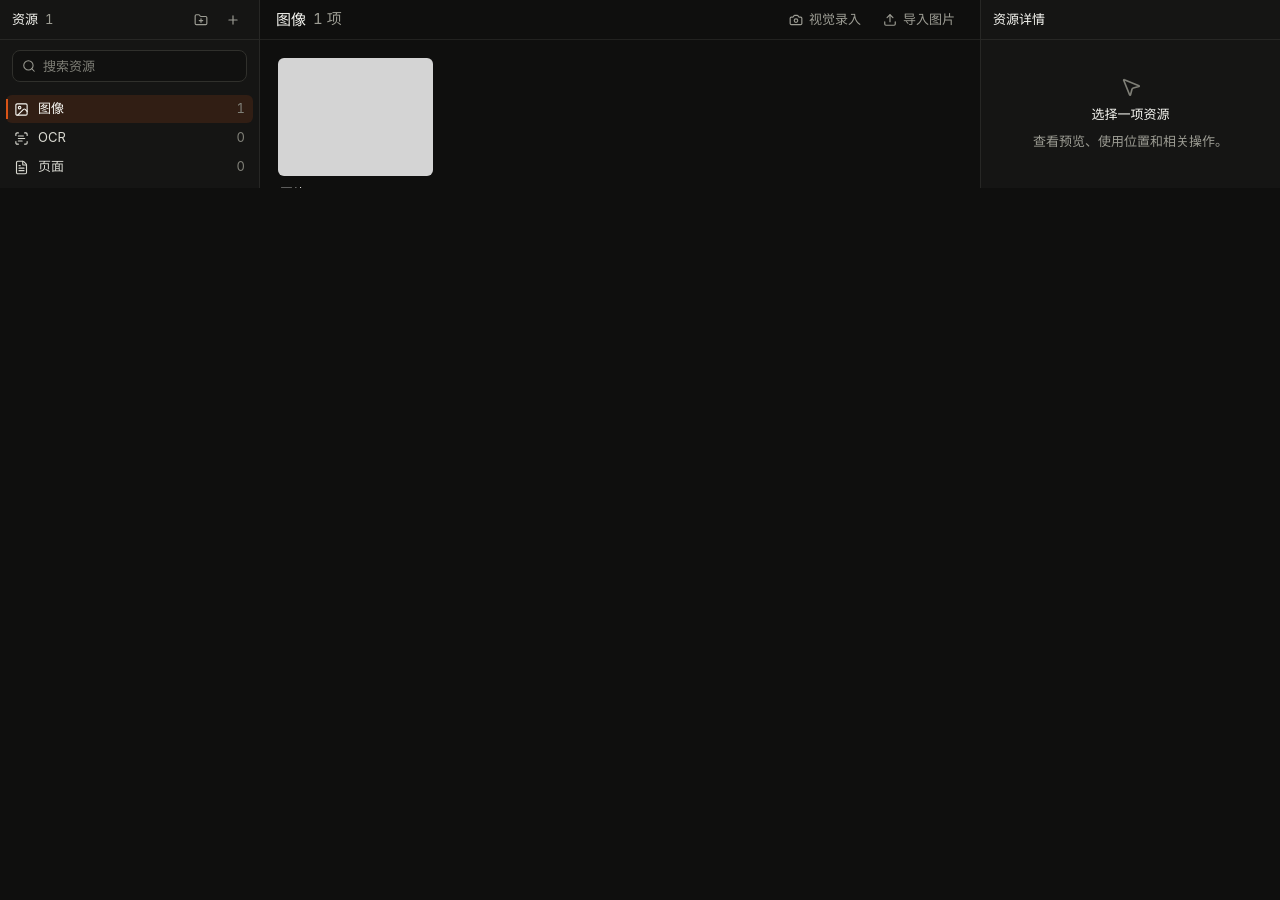
Scenario: VNextResourceWorkspace large library › 存在 ProgramDocument 引用时阻止删除且不显示伪造的强制清理
expect the button with class "asset-card" is shown: met, box [272,52,438,188]
Click the button with class "asset-card" at (355, 129), box [272,52,438,206]
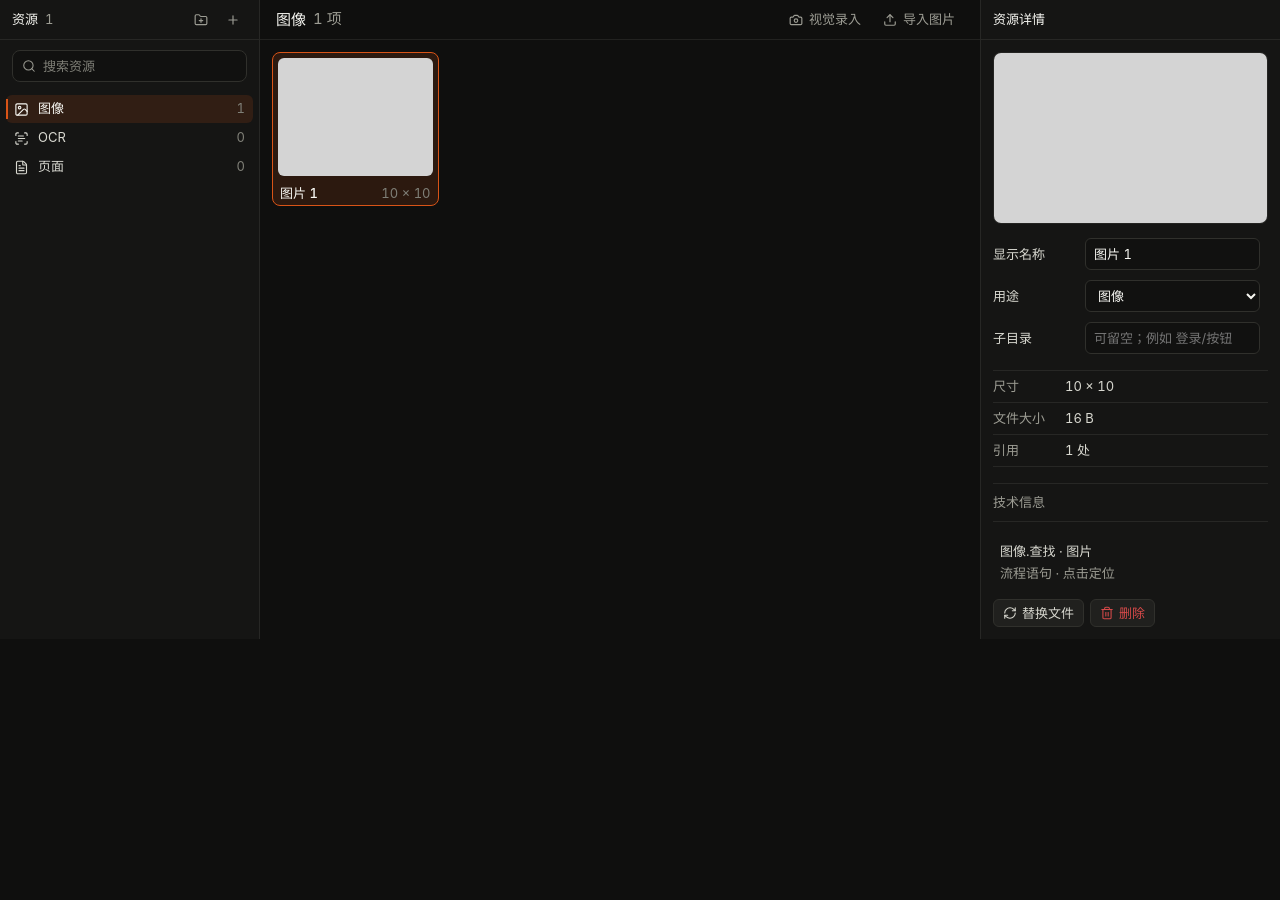
expect the element with class "reference-list" shows "图像.查找 · 图片": met, box [993,536,1268,589]
Click the button with class "danger" at (1122, 613), box [1090,599,1155,627]
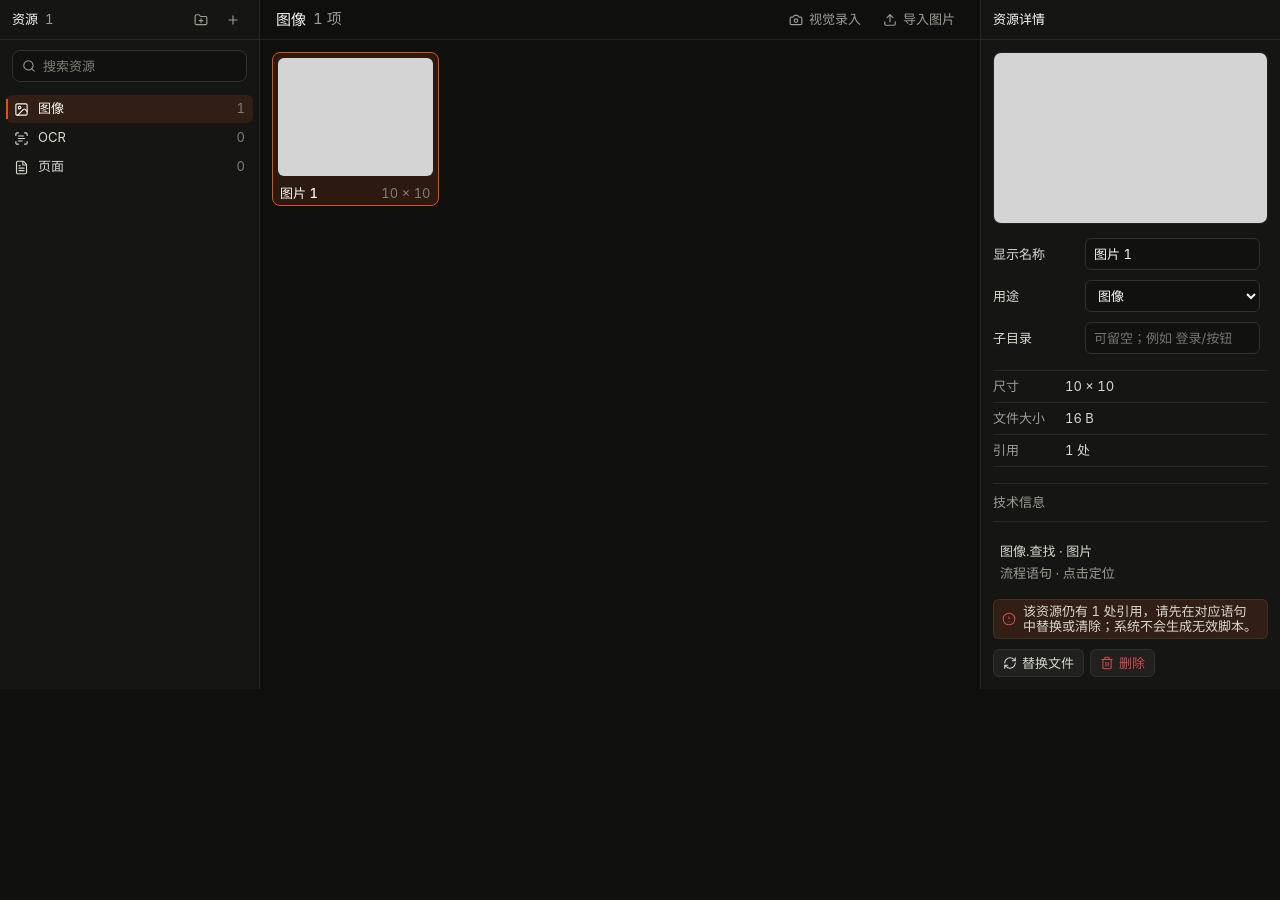
expect the text "系统不会生成无效脚本" is shown: met, box [1023,603,1257,634]
